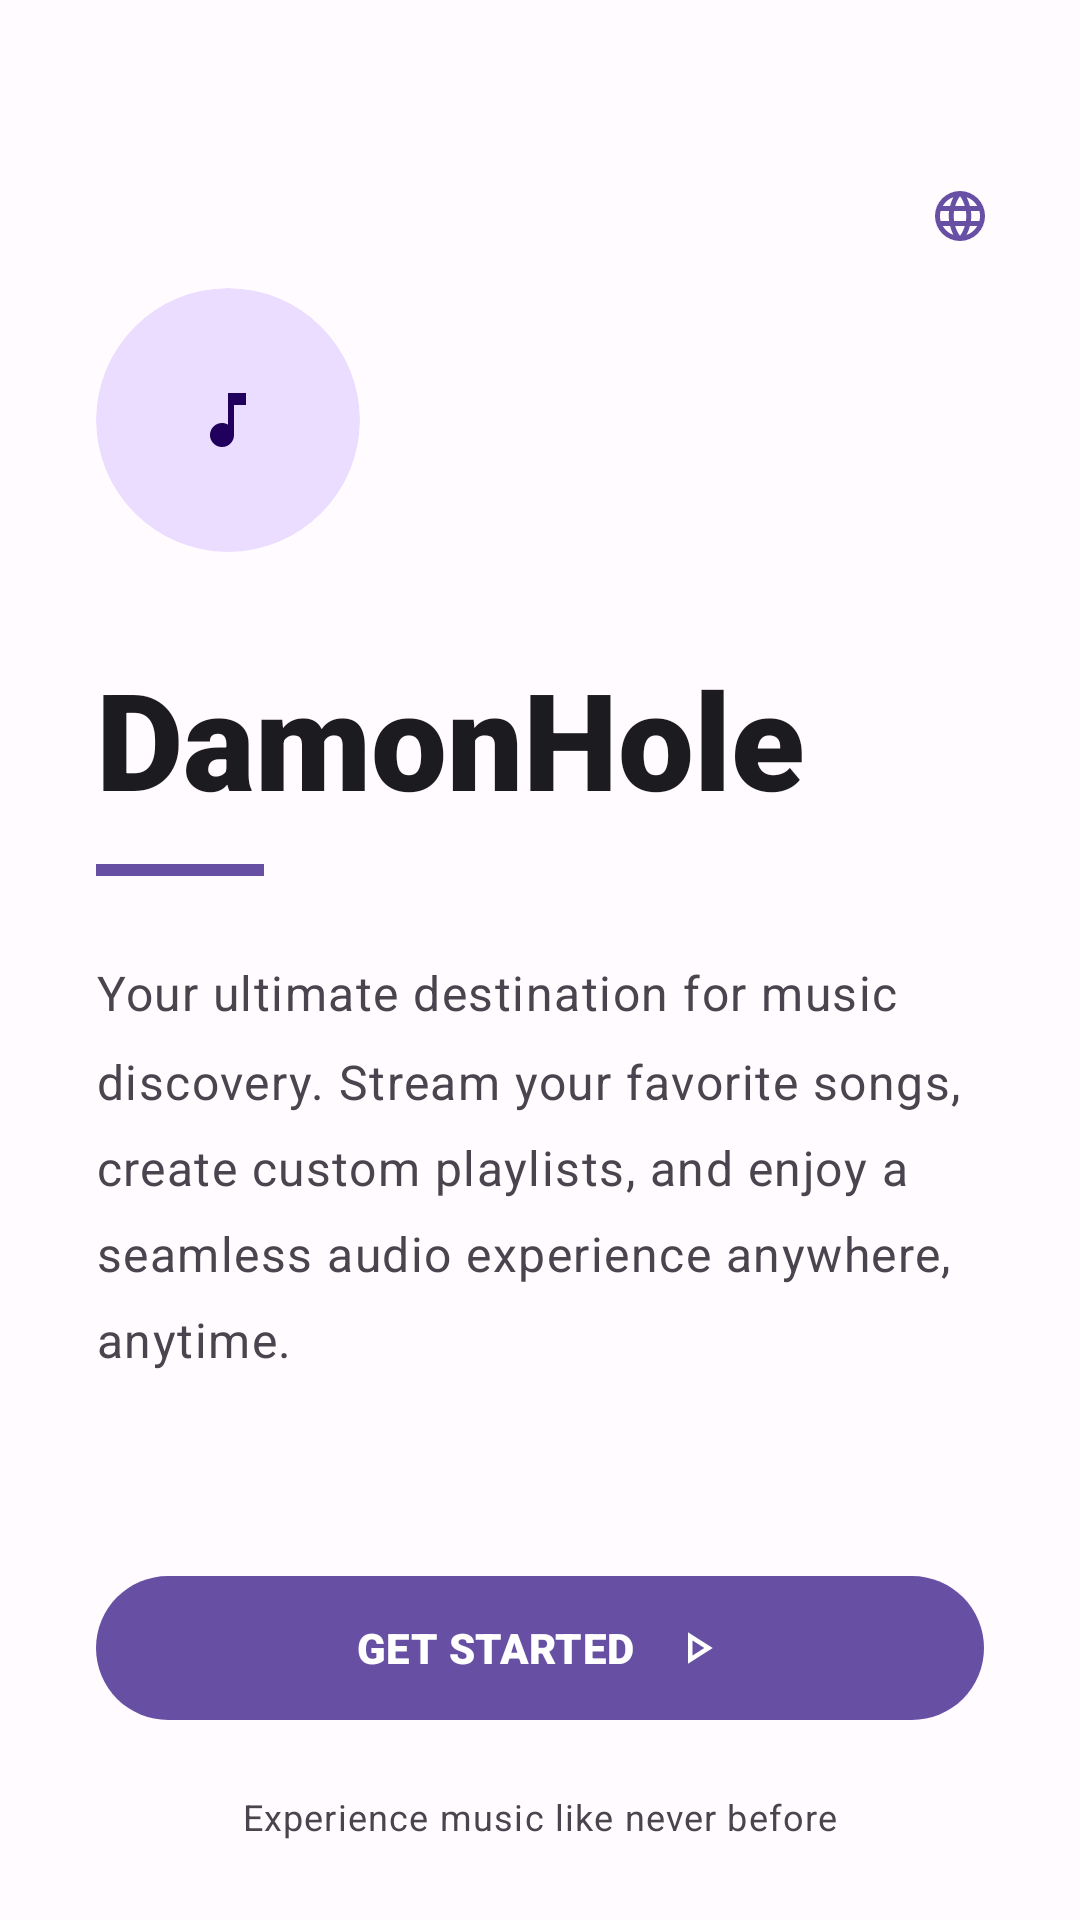

Icons on this 1080*1920 Android screen, each with the point to tap as [x,y]:
music note: [228,420]
Select Language: [960,216]
